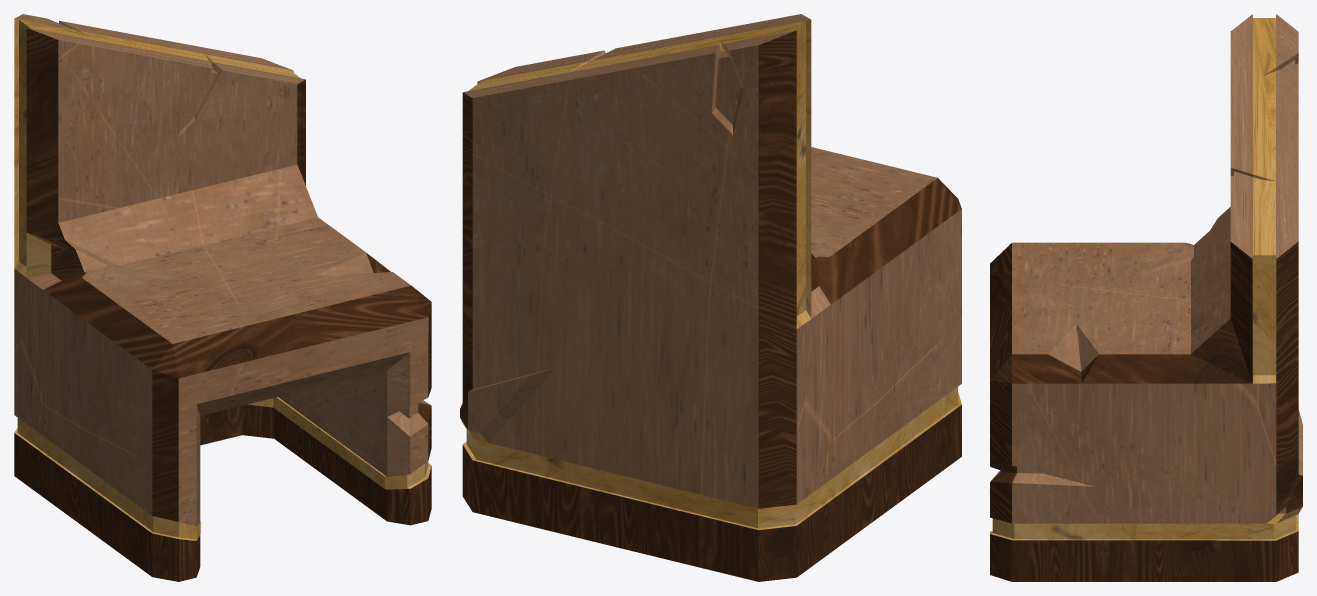
Rendered from destroyed_chair_1 (1).fbx.
3 renders of one model, left to right at view 1: azimuth 30°, elevation 25°; view 2: azimuth 150°, elevation 25°; view 3: azimuth 270°, elevation 25°, orthographic. The views are drawn at different scales.
Parts seen in each view (by area): view 1: Cube.011; view 2: Cube.011; view 3: Cube.011.
Boxes of the visible parts, bbox=[...] form: Cube.011: bbox=[14, 14, 431, 581]; Cube.011: bbox=[460, 14, 961, 581]; Cube.011: bbox=[990, 14, 1302, 581].
Bounding box in the file's own units: 46.12 × 72.15 × 46.77.
Materials: 3 (3 with a texture image).
